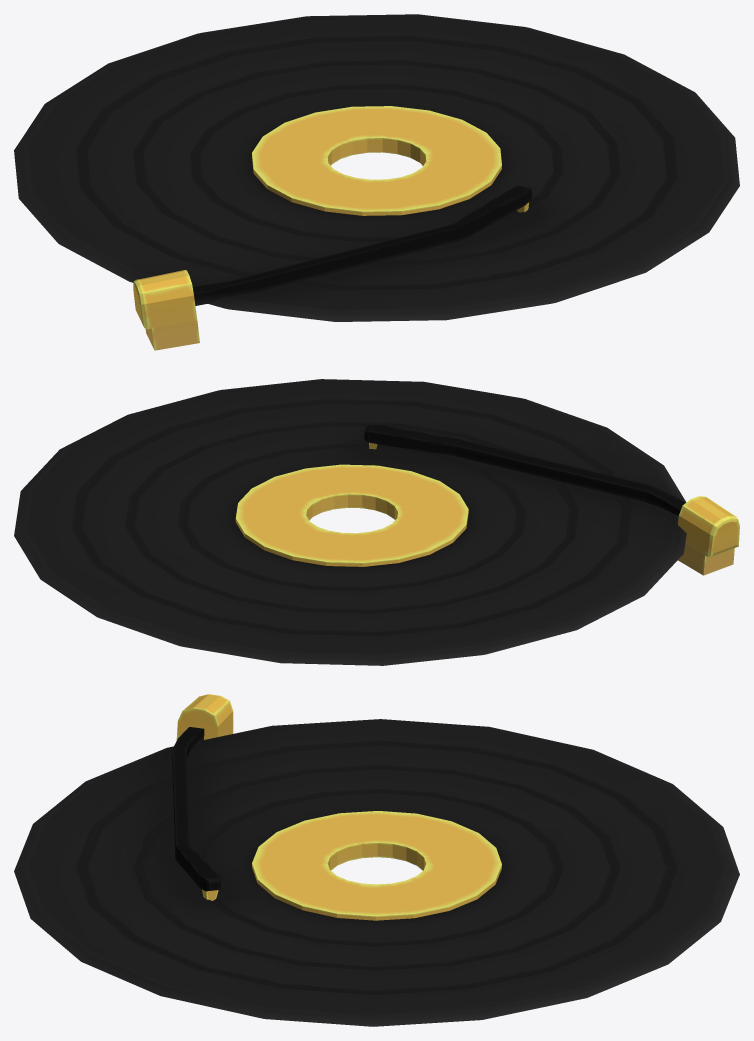
Rendered from CD Player.fbx.
3 views of the same model, one above another, from view 1: azimuth 30°, elevation 25°; view 2: azimuth 150°, elevation 25°; view 3: azimuth 270°, elevation 25° (orthographic). The views are drawn at different scales.
Parts seen in each view (by area): view 1: CD_Piece, Tone_Arm, Cartridge; view 2: CD_Piece, Tone_Arm, Cartridge; view 3: CD_Piece, Tone_Arm, Cartridge.
Boxes of the visible parts, <box> form: CD_Piece: <box>14,14,739,321</box>; Tone_Arm: <box>192,185,531,305</box>; Cartridge: <box>133,270,199,350</box>; CD_Piece: <box>14,379,686,665</box>; Tone_Arm: <box>364,424,685,515</box>; Cartridge: <box>678,496,739,575</box>; CD_Piece: <box>14,719,739,1026</box>; Tone_Arm: <box>172,727,220,900</box>; Cartridge: <box>176,694,233,740</box>.
Bounding box in the file's own units: 833 × 81.2 × 820.
